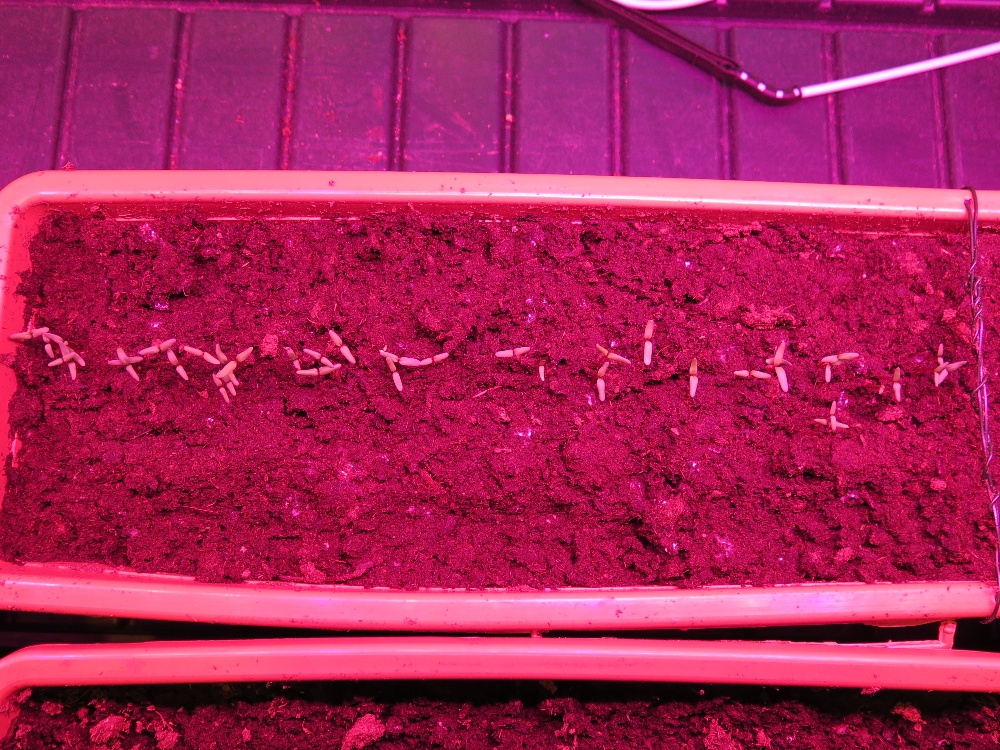crop: (106, 345, 145, 380), (326, 327, 356, 365), (771, 337, 791, 393), (218, 347, 255, 376), (54, 343, 82, 379), (210, 369, 237, 403), (385, 359, 410, 392), (166, 348, 191, 381), (298, 347, 336, 368), (810, 414, 854, 431), (937, 356, 963, 383), (419, 347, 448, 370), (188, 343, 217, 364), (595, 360, 609, 403), (7, 327, 50, 341), (46, 350, 79, 368), (493, 344, 531, 359), (139, 340, 177, 354), (642, 318, 653, 366), (732, 367, 772, 380), (819, 350, 859, 363), (295, 364, 342, 375), (828, 398, 841, 434), (688, 356, 699, 398), (823, 357, 838, 387), (38, 329, 54, 355), (891, 364, 901, 405), (537, 356, 546, 383)
